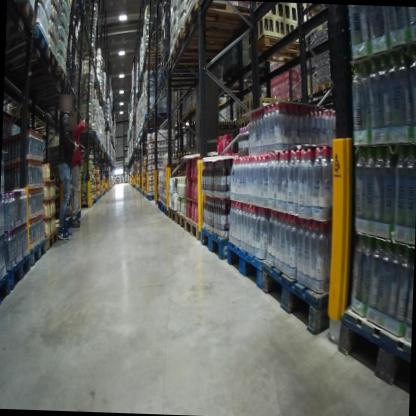pallet: (260, 247, 350, 336), (330, 304, 412, 395), (182, 0, 264, 40), (224, 237, 268, 297), (6, 51, 61, 95), (12, 63, 69, 105), (8, 20, 51, 71), (175, 24, 237, 59), (167, 45, 237, 74), (247, 35, 305, 68), (5, 249, 34, 296), (198, 228, 243, 258), (7, 0, 40, 29), (0, 268, 12, 315), (314, 75, 335, 100), (41, 228, 60, 254), (185, 213, 201, 242), (29, 240, 45, 268), (75, 46, 99, 61), (142, 44, 164, 60), (176, 209, 187, 232), (181, 111, 200, 121), (168, 206, 177, 225), (190, 99, 200, 113), (163, 202, 170, 219), (157, 198, 163, 214), (186, 106, 192, 118)
